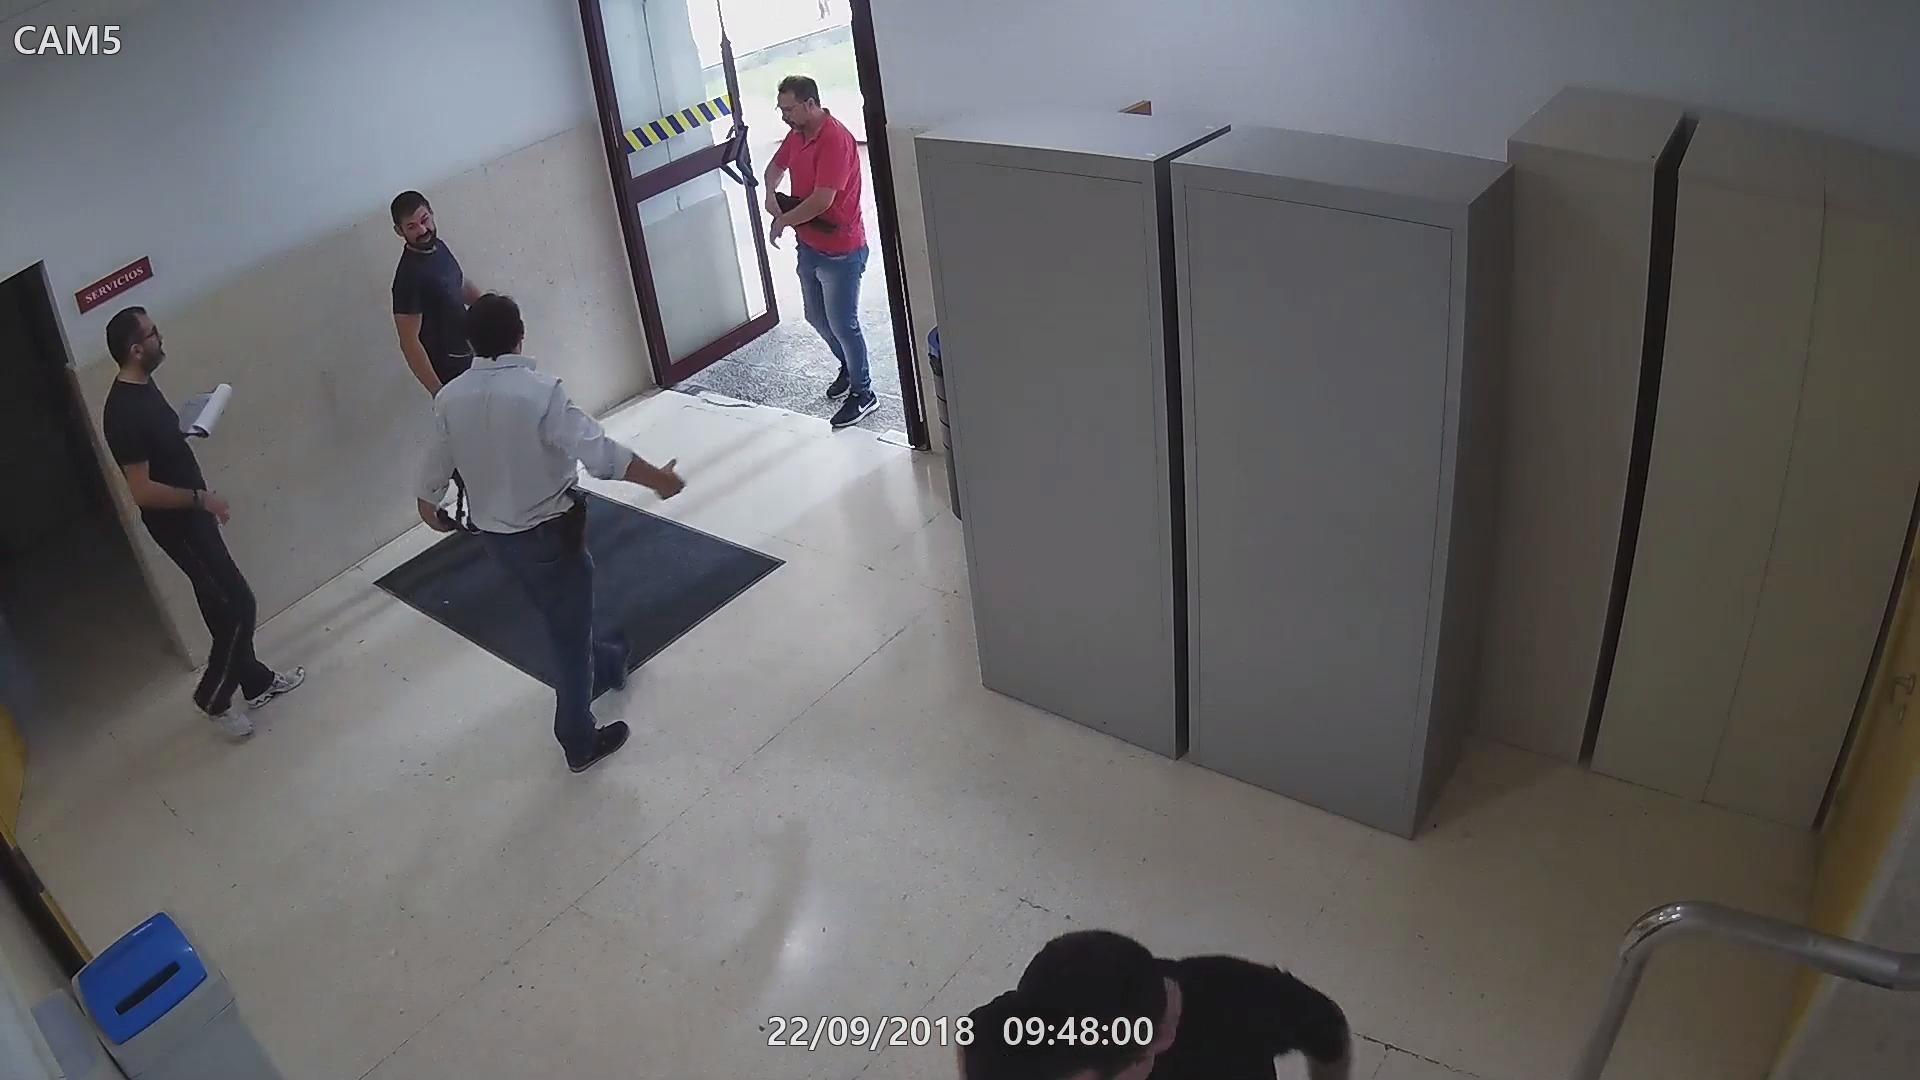Handgun: (429, 501, 469, 538)
